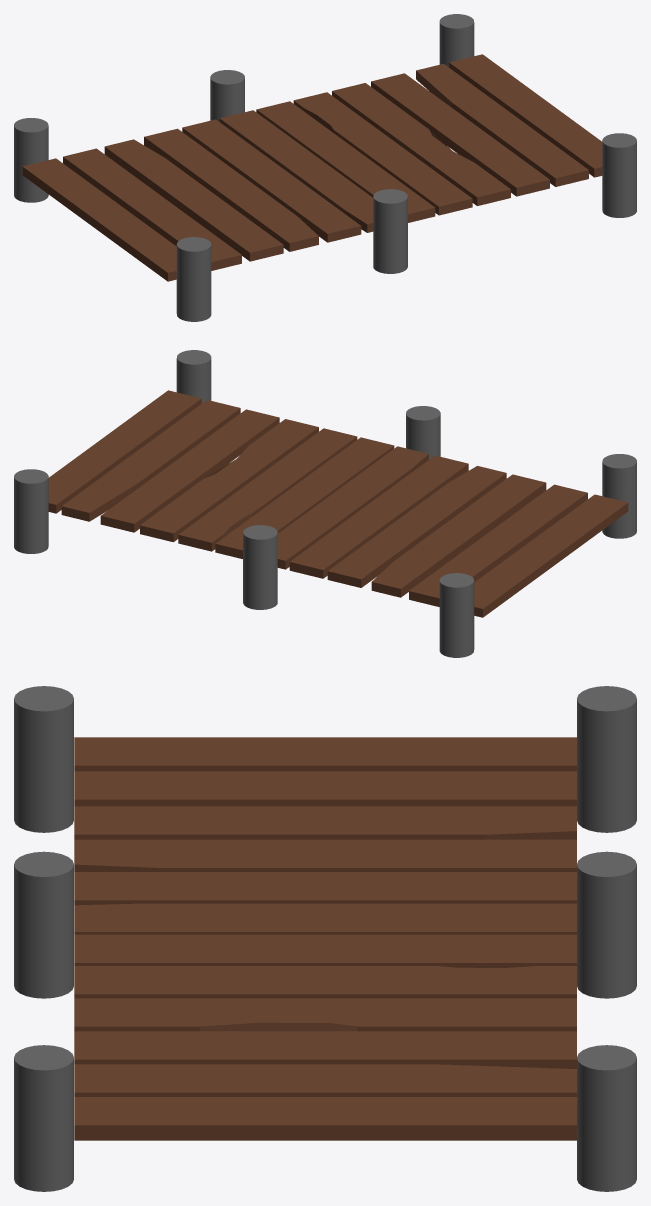
File: dock_embeded.fbx
The picture shows the model from 3 angles, top to bottom: view 1: azimuth 30°, elevation 25°; view 2: azimuth 150°, elevation 25°; view 3: azimuth 270°, elevation 25°; orthographic projection. The views are drawn at different scales.
Visible parts, largest first — view 1: pCube5, pCube10, pCube4, pCube7, pCube11, pCube3, pCube9, pCube8, pCube6, pCube12, pCube2, pCube1 (+6 smaller); view 2: pCube5, pCube10, pCube4, pCube11, pCube7, pCube3, pCube9, pCube8, pCube6, pCube12, pCube2, pCube1 (+6 smaller); view 3: pCube12, pCube6, pCube7, pCube10, pCube5, pCube9, pCube4, pCube8, pCube11, pCube1, pCube3, pCube2 (+6 smaller).
Boxes of the visible parts, x1,y1,x2,y2 form: pCube5: (104,139,283,261); pCube10: (371,73,549,196); pCube4: (144,128,318,251); pCube7: (22,158,176,281); pCube11: (416,63,588,186); pCube3: (182,119,361,242); pCube9: (332,83,510,205); pCube8: (293,92,472,215); pCube6: (63,148,241,270); pCube12: (449,54,602,177); pCube2: (219,110,373,232); pCube1: (256,101,435,222); pCube5: (371,474,546,597); pCube10: (100,409,279,532); pCube4: (327,466,506,587); pCube11: (61,400,240,521); pCube7: (474,494,628,617); pCube3: (289,455,468,578); pCube9: (140,419,318,542); pCube8: (178,428,357,551); pCube6: (409,484,587,606); pCube12: (48,390,201,513); pCube2: (277,446,428,569); pCube1: (215,437,394,558); pCube12: (74,1097,576,1140); pCube6: (74,771,576,806); pCube7: (74,737,576,771); pCube10: (74,1031,576,1068); pCube5: (74,806,576,839); pCube9: (74,998,576,1031); pCube4: (74,839,576,871); pCube8: (74,966,576,998); pCube11: (74,1064,576,1096); pCube1: (74,934,576,967); pCube3: (74,872,576,905); pCube2: (74,903,576,934).
Bounding box in the file's own units: 13.7 × 2 × 9.29.
Materials: 1 (1 with a texture image).
